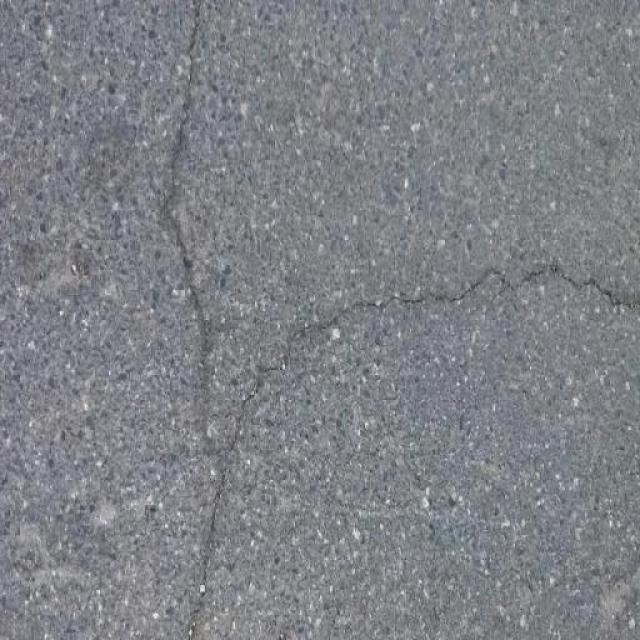Crack: (184, 253, 640, 639), (161, 1, 217, 422)
